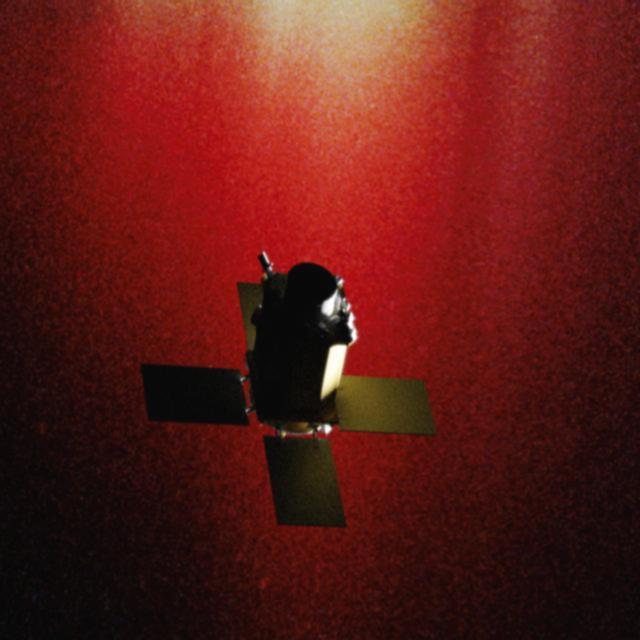satellite: (114, 241, 450, 547)
